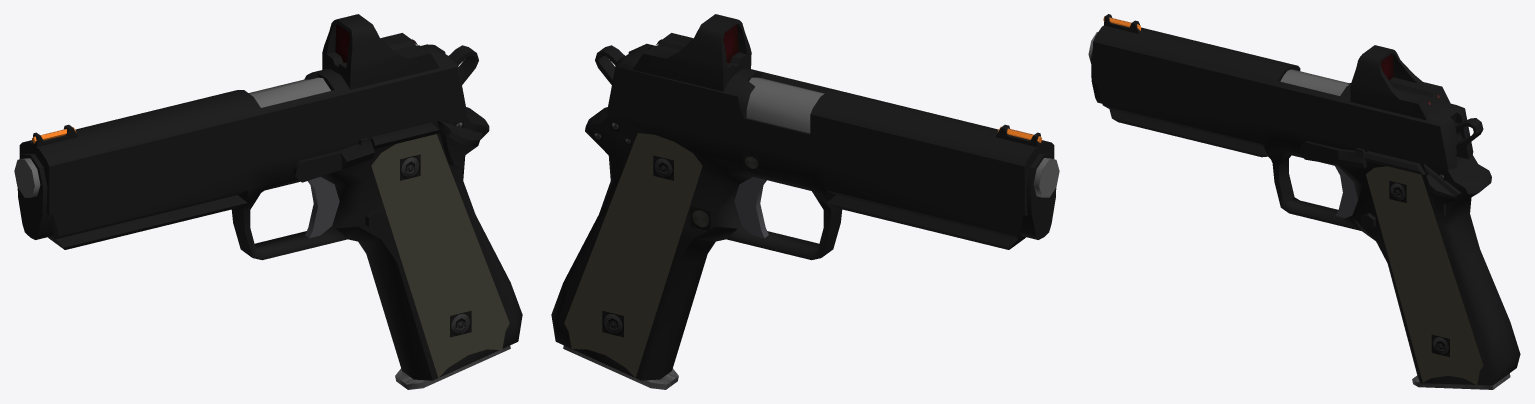
File: weapon_heavypistol.glb
3 renders of one model, left to right at view 1: azimuth 30°, elevation 25°; view 2: azimuth 150°, elevation 25°; view 3: azimuth 330°, elevation 25°, orthographic. The views are drawn at different scales.
Parts seen in each view (by area): view 1: main_frame_heavypistol, slide_heavypistol, macro_heavypistol, barrel_heavypistol, trigger_heavypistol, magazine_heavypistol, hammer_heavypistol, front_sight_heavypistol; view 2: main_frame_heavypistol, slide_heavypistol, macro_heavypistol, barrel_heavypistol, trigger_heavypistol, magazine_heavypistol, hammer_heavypistol, front_sight_heavypistol; view 3: main_frame_heavypistol, slide_heavypistol, macro_heavypistol, barrel_heavypistol, trigger_heavypistol, magazine_heavypistol, hammer_heavypistol, front_sight_heavypistol.
Boxes of the visible parts, box(x1,y1,x2,y2) form: main_frame_heavypistol: box(48, 107, 522, 380); slide_heavypistol: box(17, 44, 466, 239); macro_heavypistol: box(322, 14, 439, 89); barrel_heavypistol: box(14, 77, 330, 198); trigger_heavypistol: box(305, 177, 339, 238); magazine_heavypistol: box(395, 345, 510, 389); hammer_heavypistol: box(449, 45, 478, 84); front_sight_heavypistol: box(32, 124, 77, 149); main_frame_heavypistol: box(551, 107, 1027, 380); slide_heavypistol: box(607, 43, 1056, 239); macro_heavypistol: box(633, 14, 751, 91); barrel_heavypistol: box(746, 77, 1059, 197); trigger_heavypistol: box(734, 177, 768, 238); magazine_heavypistol: box(563, 345, 678, 389); hammer_heavypistol: box(595, 45, 624, 84); front_sight_heavypistol: box(996, 124, 1041, 149); main_frame_heavypistol: box(1097, 84, 1520, 385); slide_heavypistol: box(1091, 25, 1473, 169); macro_heavypistol: box(1350, 45, 1450, 120); barrel_heavypistol: box(1088, 32, 1349, 95); trigger_heavypistol: box(1335, 166, 1357, 217); magazine_heavypistol: box(1412, 373, 1510, 389); hammer_heavypistol: box(1455, 118, 1483, 152); front_sight_heavypistol: box(1103, 14, 1142, 33).
Bounding box in the file's own units: 25.61 × 18.81 × 3.58.
Materials: 5 (5 with a texture image).
